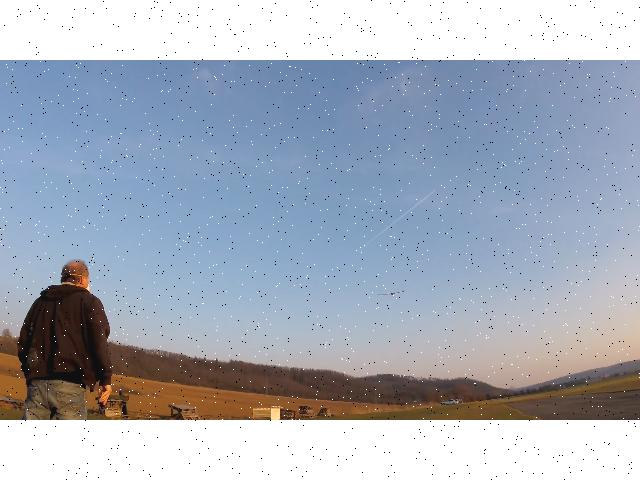Anti-Drone: (378, 290, 406, 296)
